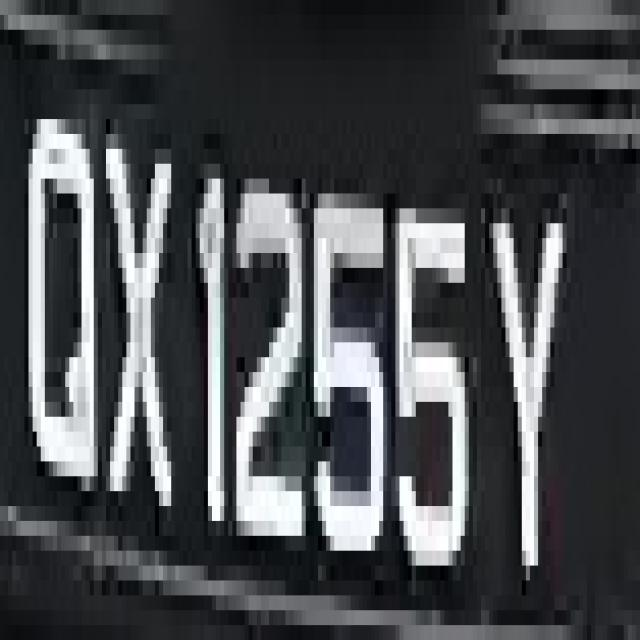1: (192, 119, 228, 581)
2: (220, 104, 314, 566)
5: (391, 149, 481, 595), (306, 134, 387, 566)
Q: (20, 0, 98, 521)
X: (94, 59, 179, 580)
Y: (485, 164, 571, 580)
